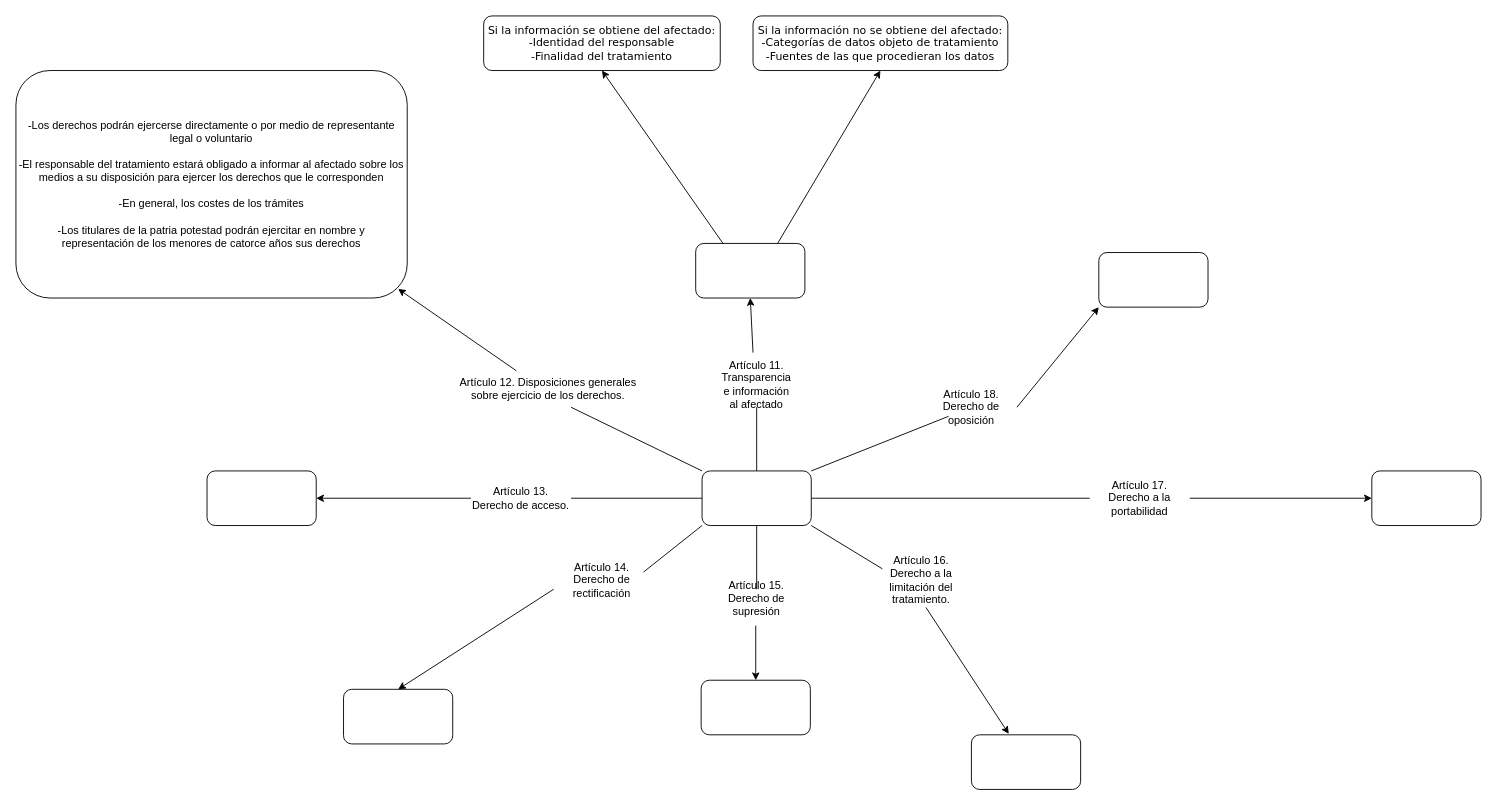
Image size: 1497x805. Some labels were removed from this diagram. Each missing label, with the centre of its shape:
Información que debe aportar el responsable:: (x=750, y=270)
Título III. Derechos de las personas.: (x=756, y=498)
